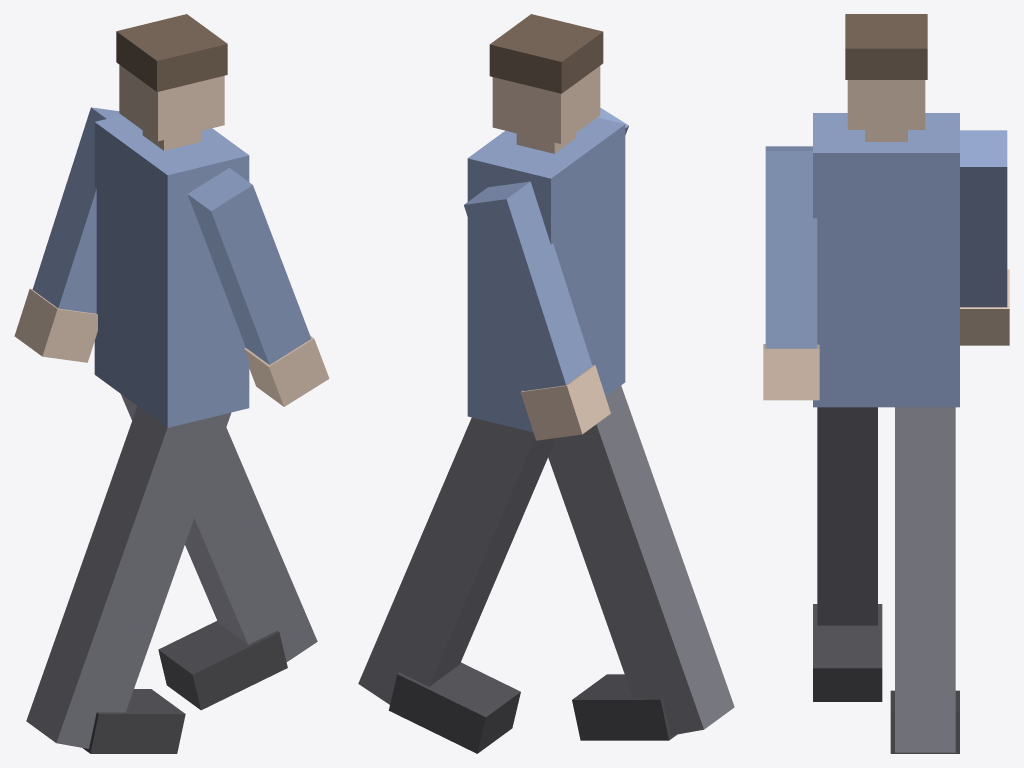
The model's file is SM_WbPed2_0.glb.
3 renders of one model, left to right at view 1: azimuth 30°, elevation 25°; view 2: azimuth 150°, elevation 25°; view 3: azimuth 270°, elevation 25°, orthographic. The views are drawn at different scales.
Visible parts, largest first — view 1: SM_WbPed2_0; view 2: SM_WbPed2_0; view 3: SM_WbPed2_0.
Boxes of the visible parts, <box> form: SM_WbPed2_0: <box>14,14,329,753</box>; SM_WbPed2_0: <box>358,14,734,753</box>; SM_WbPed2_0: <box>763,14,1009,753</box>.
Size of the model in its own units: 0.8077 by 1.75 by 0.57.
